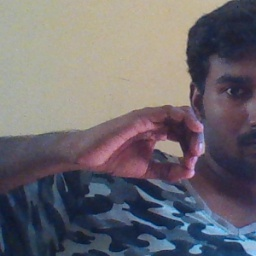O: (87, 98, 217, 191)
